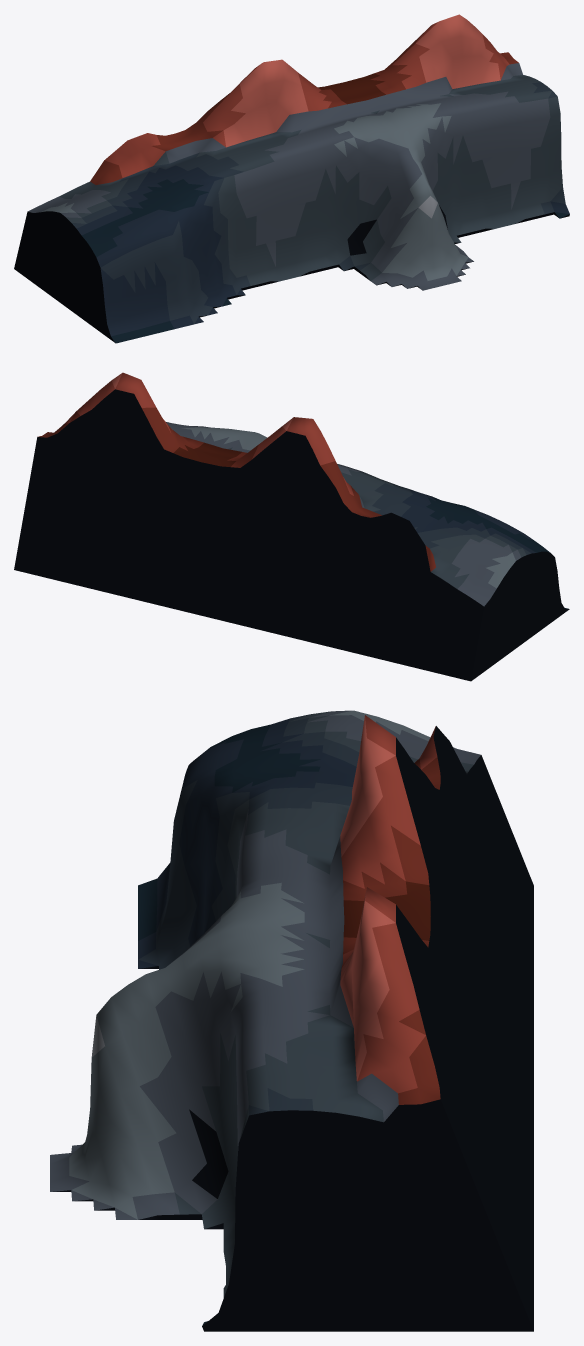
File: gyges_maw_195.glb
The picture shows the model from 3 angles, top to bottom: view 1: azimuth 30°, elevation 25°; view 2: azimuth 150°, elevation 25°; view 3: azimuth 270°, elevation 25°; orthographic projection. The views are drawn at different scales.
Parts seen in each view (by area): view 1: gyges_maw_195; view 2: gyges_maw_195; view 3: gyges_maw_195.
Boxes of the visible parts, x1,y1,x2,y2 form: gyges_maw_195: [14, 14, 569, 343]; gyges_maw_195: [14, 372, 569, 681]; gyges_maw_195: [50, 710, 533, 1331].
Bounding box in the file's own units: 24 × 9.18 × 11.
